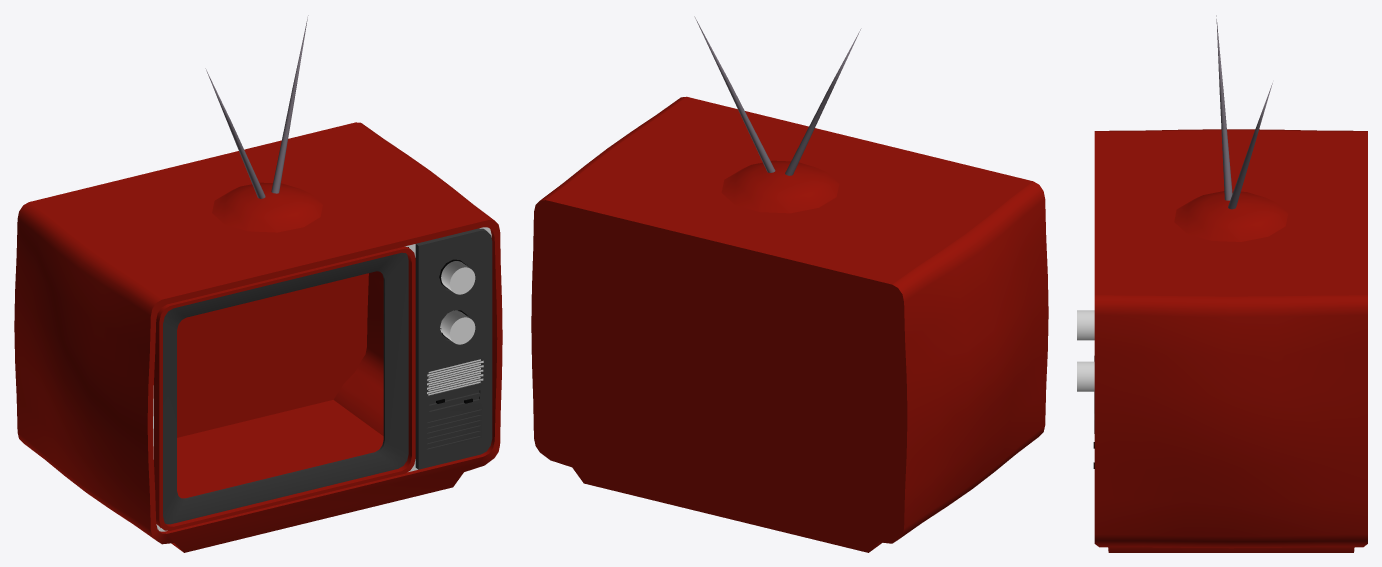
3 views of the same model, side by side, from view 1: azimuth 30°, elevation 25°; view 2: azimuth 150°, elevation 25°; view 3: azimuth 270°, elevation 25° (orthographic). The views are drawn at different scales.
Visible parts, largest first — view 1: TV, Plane.001, bouton_bas, bouton_haut; view 2: TV; view 3: TV, bouton_haut, bouton_bas.
Boxes of the visible parts, box(x1,y1,x2,y2) form: TV: box(14, 15, 502, 552); Plane.001: box(408, 227, 491, 466); bouton_bas: box(440, 310, 475, 344); bouton_haut: box(441, 261, 475, 294); TV: box(531, 16, 1048, 552); TV: box(1093, 15, 1367, 552); bouton_haut: box(1077, 310, 1094, 340); bouton_bas: box(1077, 361, 1094, 391).
Bounding box in the file's own units: 335 × 356 × 213.
